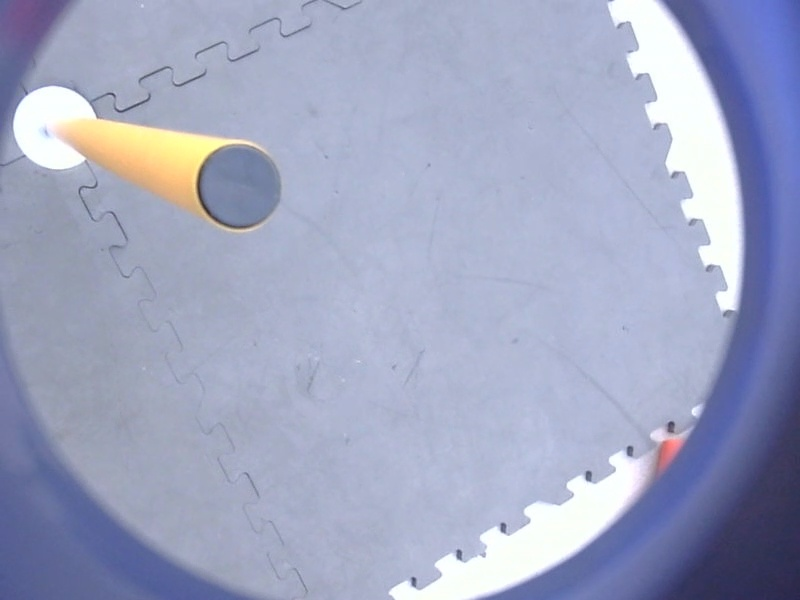tip: (191, 137, 287, 234)
